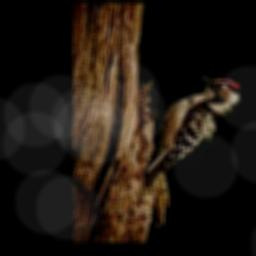Woodpecker: (145, 75, 242, 186)
